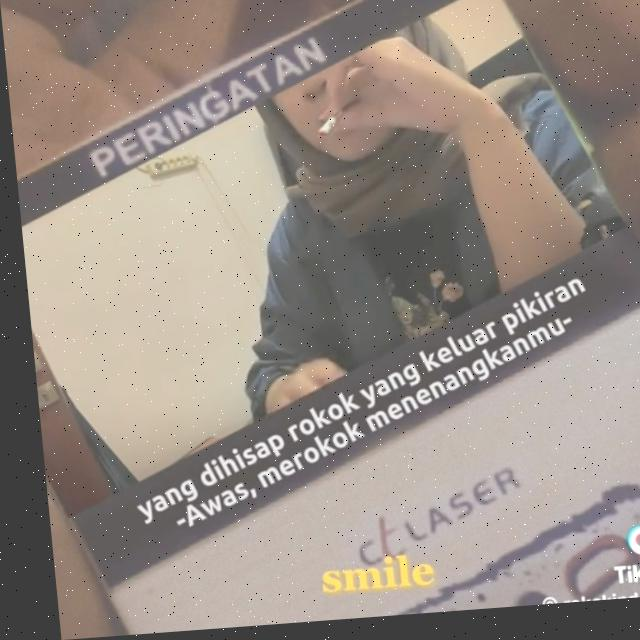cigarette: (311, 116, 341, 143)
